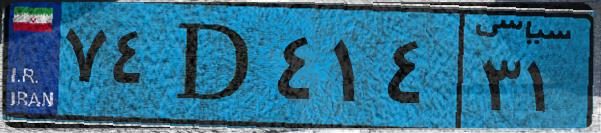1: (330, 28, 385, 110), (525, 38, 570, 115)
3: (475, 38, 525, 113)
4: (270, 28, 330, 110), (385, 28, 445, 110), (110, 28, 158, 98)
7: (57, 26, 110, 100)
D: (158, 12, 270, 120)
